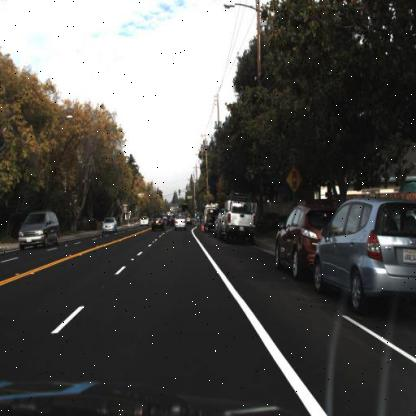car: (312, 196, 415, 315), (274, 200, 348, 280), (218, 192, 256, 242), (18, 210, 59, 252), (97, 209, 119, 237), (148, 209, 166, 233), (100, 214, 118, 236), (173, 214, 186, 233), (138, 209, 149, 228)
